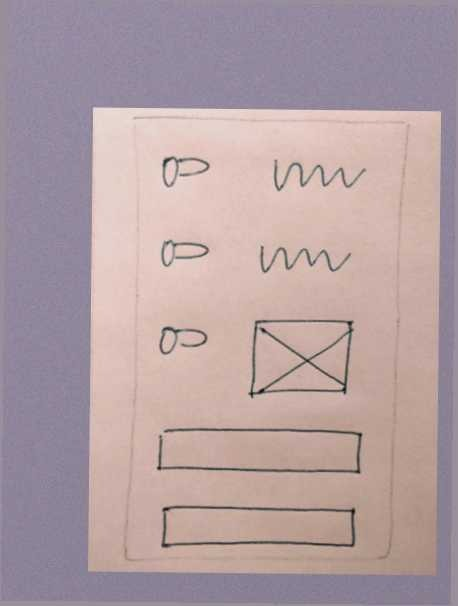image: (243, 311, 358, 403)
switch: (156, 148, 212, 196), (157, 228, 213, 275), (154, 316, 210, 363)
text: (266, 153, 369, 200), (252, 236, 355, 282)
text_input: (153, 423, 367, 483), (155, 500, 361, 552)
